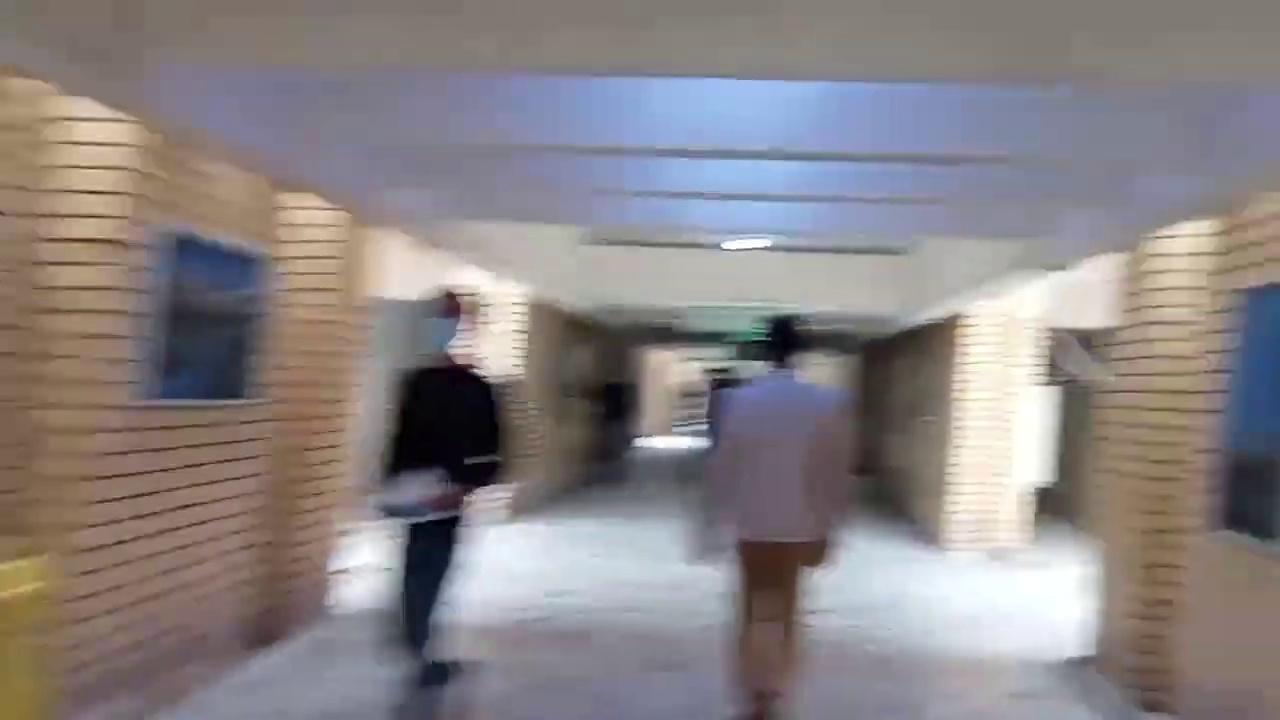person: (701, 314, 859, 718), (374, 289, 504, 683)
